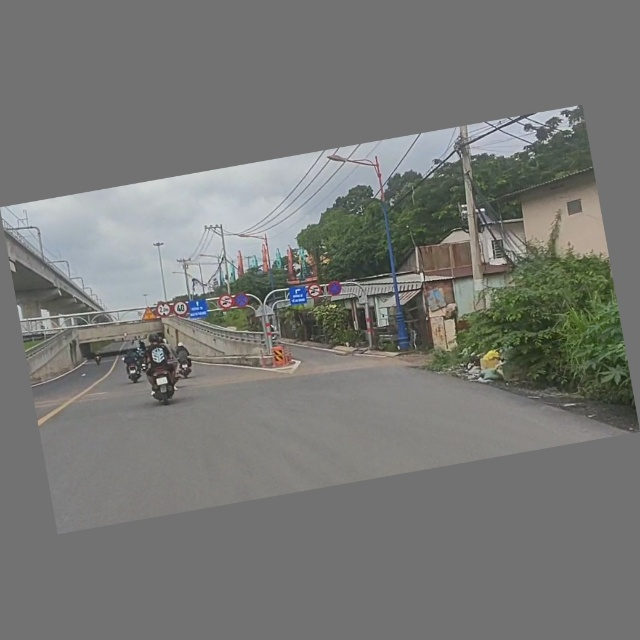P.107: (218, 295, 235, 312), (306, 283, 323, 300)
P.117*: (156, 302, 172, 319)
P.127*40: (172, 301, 190, 317)
P.130: (234, 292, 251, 310), (327, 281, 344, 298)
W.239b*: (140, 306, 159, 323)
